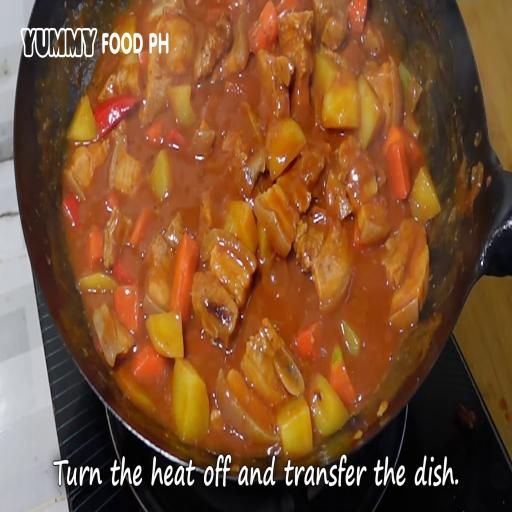pork caldereta: (78, 82, 432, 386)
